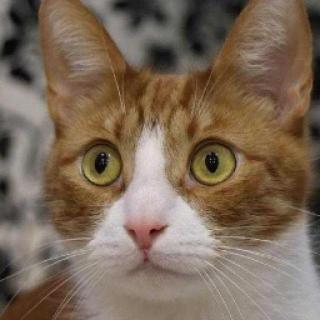cat: (34, 0, 320, 298)
nose: (120, 200, 167, 256)
